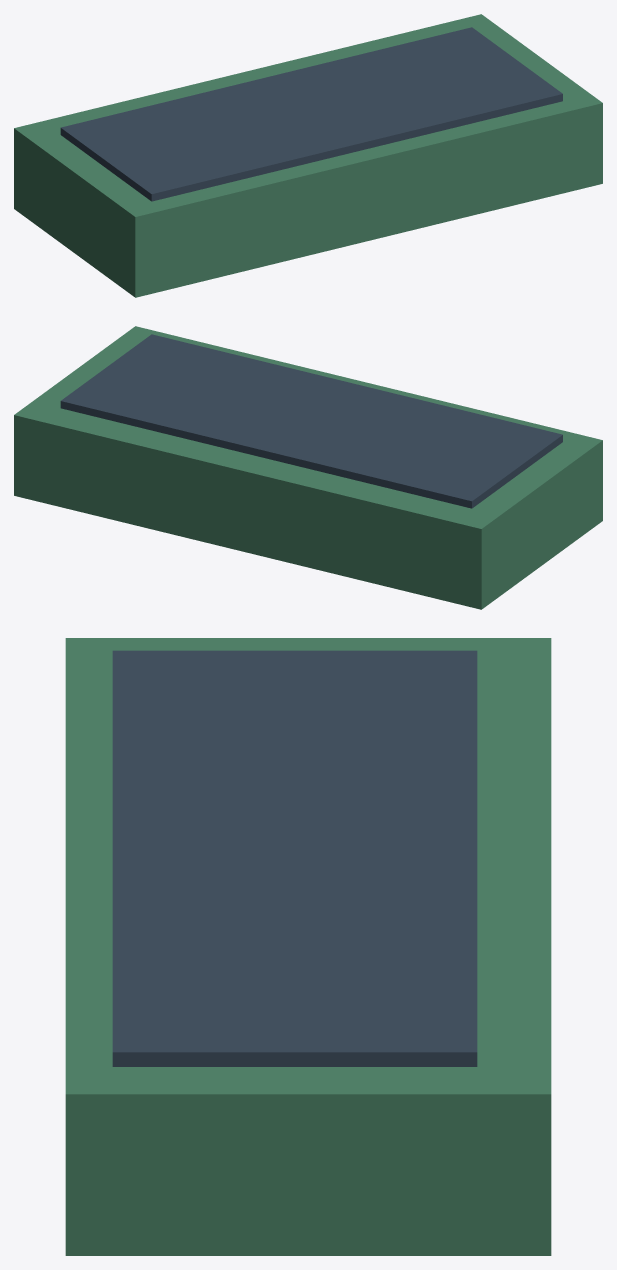
The model's file is lcd1602.glb.
3 views of the same model, one above another, from view 1: azimuth 30°, elevation 25°; view 2: azimuth 150°, elevation 25°; view 3: azimuth 270°, elevation 25° (orthographic). The views are drawn at different scales.
Parts seen in each view (by area): view 1: lcd1602-pcb, lcd1602-display; view 2: lcd1602-pcb, lcd1602-display; view 3: lcd1602-display, lcd1602-pcb.
Part boxes in pixels (x1,y1,x2,y2): lcd1602-pcb: (14, 14, 602, 297); lcd1602-display: (60, 27, 562, 201); lcd1602-pcb: (14, 326, 602, 609); lcd1602-display: (60, 334, 562, 508); lcd1602-display: (112, 650, 477, 1066); lcd1602-pcb: (65, 638, 551, 1255).
Size of the model in its own units: 0.08 by 0.0144 by 0.036.
